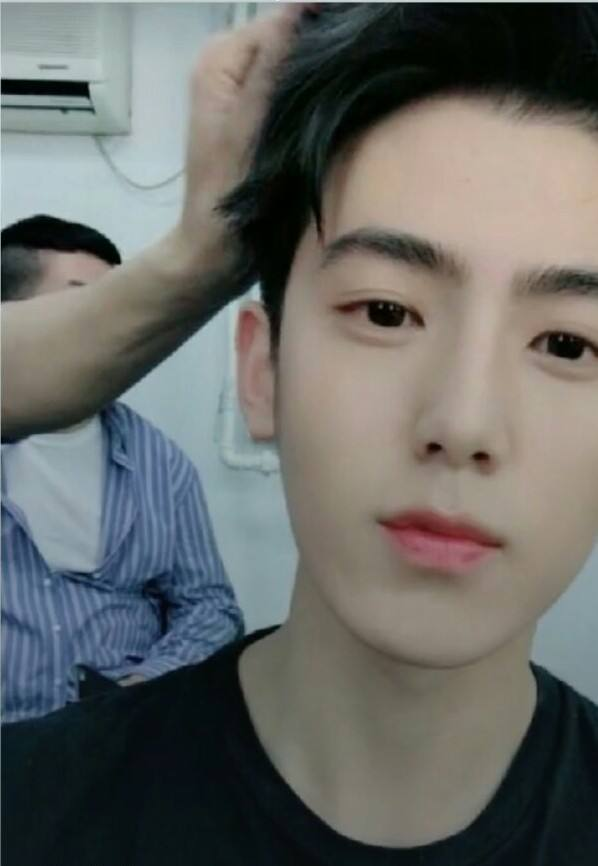person: (151, 8, 598, 670)
